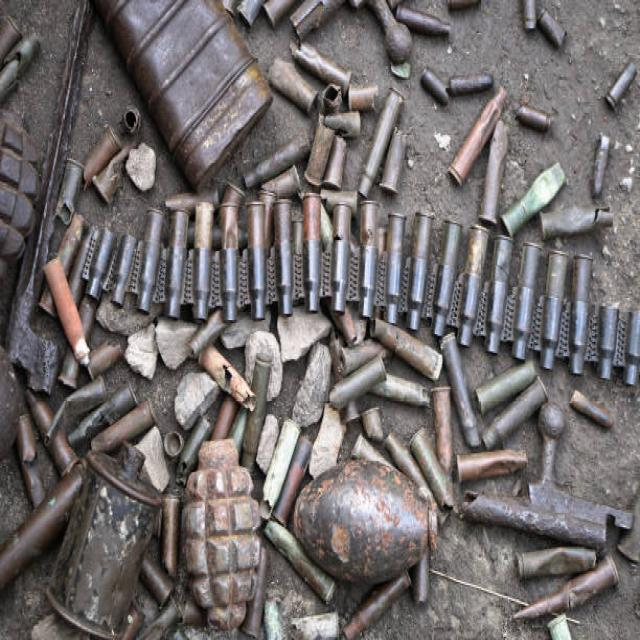grenade: (292, 459, 442, 578), (179, 435, 260, 636)
